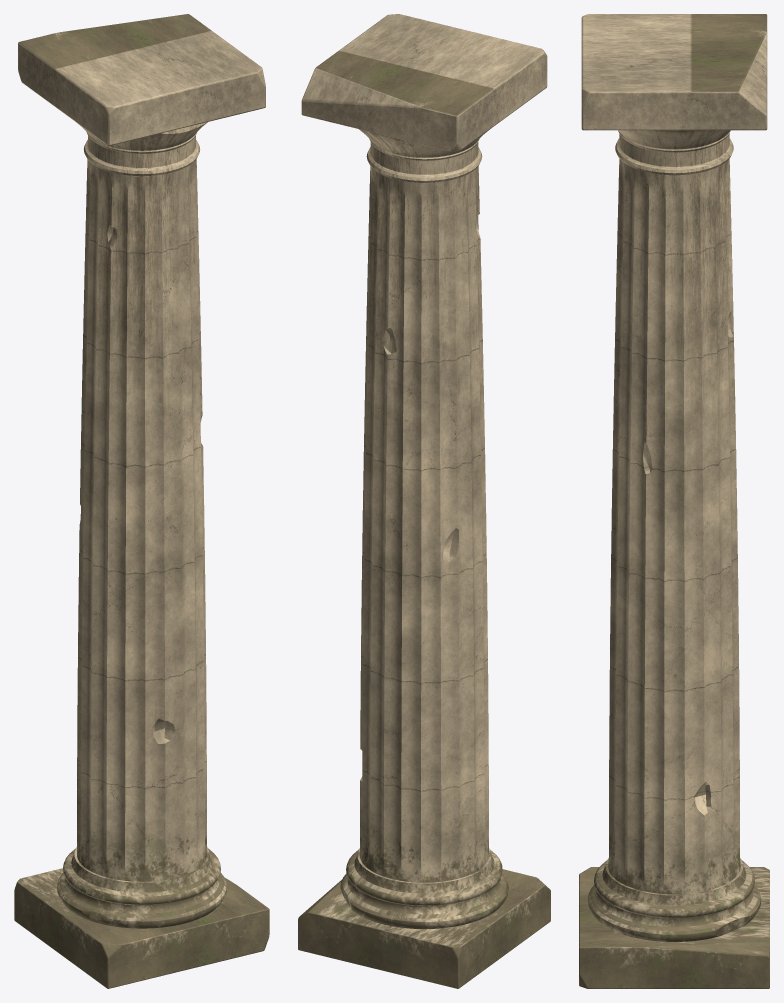
The model's file is destructible_column_intact.glb.
3 renders of one model, left to right at view 1: azimuth 30°, elevation 25°; view 2: azimuth 150°, elevation 25°; view 3: azimuth 270°, elevation 25°, orthographic. The views are drawn at different scales.
Parts seen in each view (by area): view 1: Column_Body; view 2: Column_Body; view 3: Column_Body.
Part boxes in pixels (x1,y1,x2,y2): Column_Body: (14, 14, 269, 988); Column_Body: (298, 14, 550, 988); Column_Body: (579, 14, 769, 988).
Bounding box in the file's own units: 2.3 × 11.92 × 2.3.
1 material, 1 textured.
